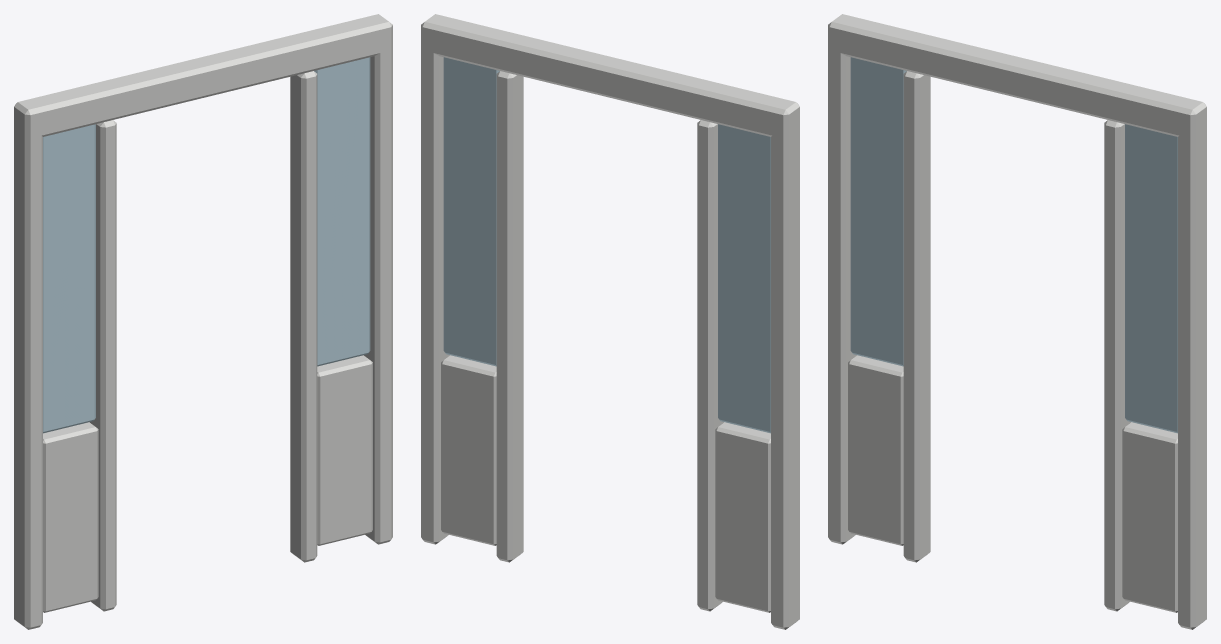
The model's file is hospital-wards-and-clinic-operations-glazed-partition--ca8abb5b__23657.glb.
3 renders of one model, left to right at view 1: azimuth 30°, elevation 25°; view 2: azimuth 150°, elevation 25°; view 3: azimuth 330°, elevation 25°, orthographic.
Visible parts, largest first — view 1: glazed-partition-doorway; view 2: glazed-partition-doorway; view 3: glazed-partition-doorway.
Part boxes in pixels (left/top/right/bottom): glazed-partition-doorway: left=14, top=14, right=392, bottom=629; glazed-partition-doorway: left=421, top=14, right=799, bottom=629; glazed-partition-doorway: left=828, top=14, right=1206, bottom=629.
Bounding box in the file's own units: 2 × 2.7 × 0.1401.
